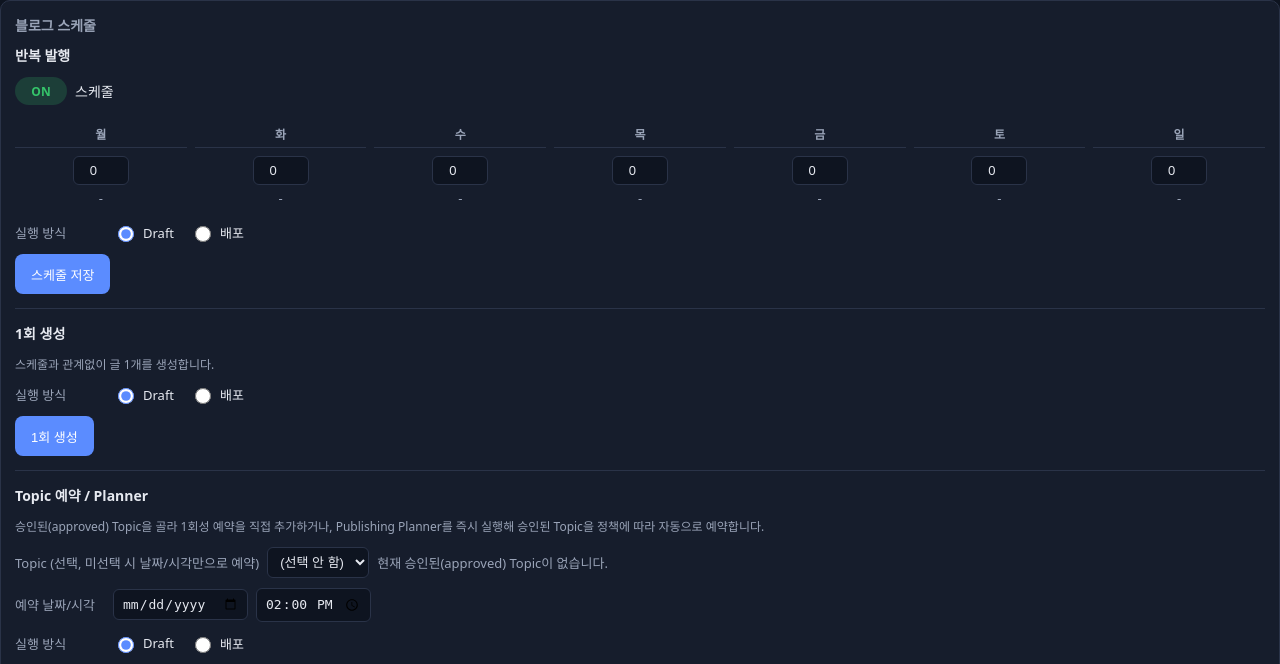
Test: BlogSchedulerPanel — 1회 생성 (runBlogSchedulerOnceOneoff) › shows an error message when run-once fails without claiming success
Click the button "1회 생성".
click(54, 436)  # box [15,416,94,456]
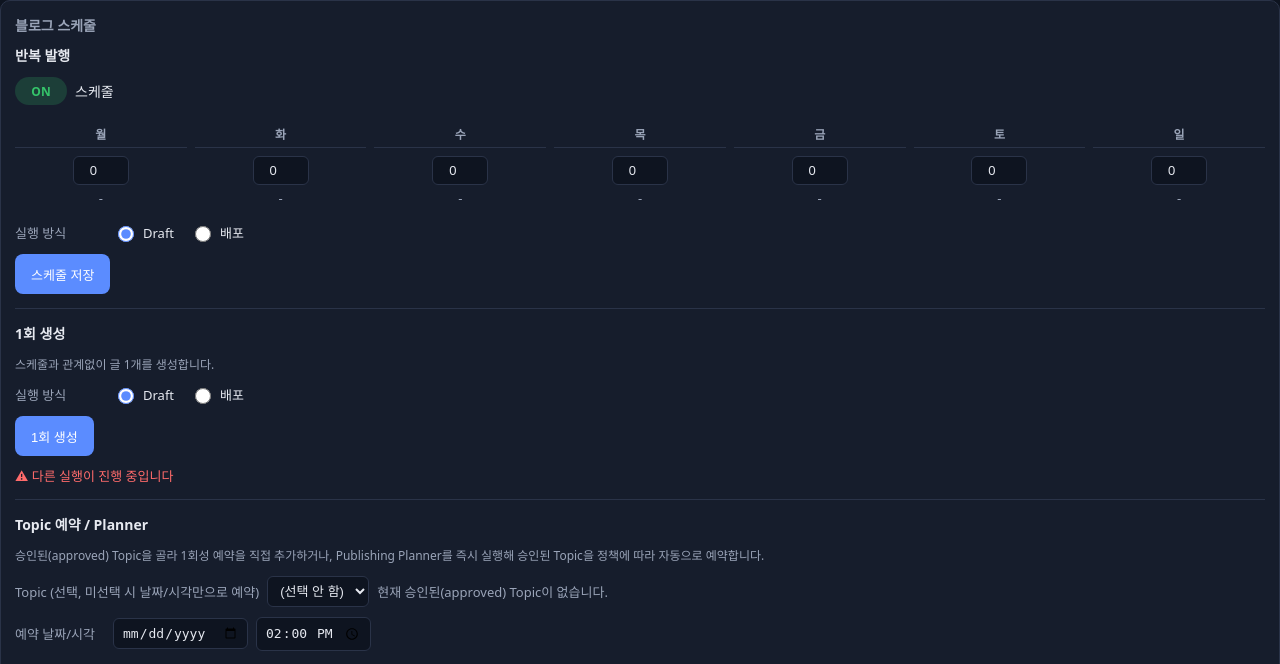
Expected: the text "⚠ 다른 실행이 진행 중입니다" is shown, [15,467,173,485]
